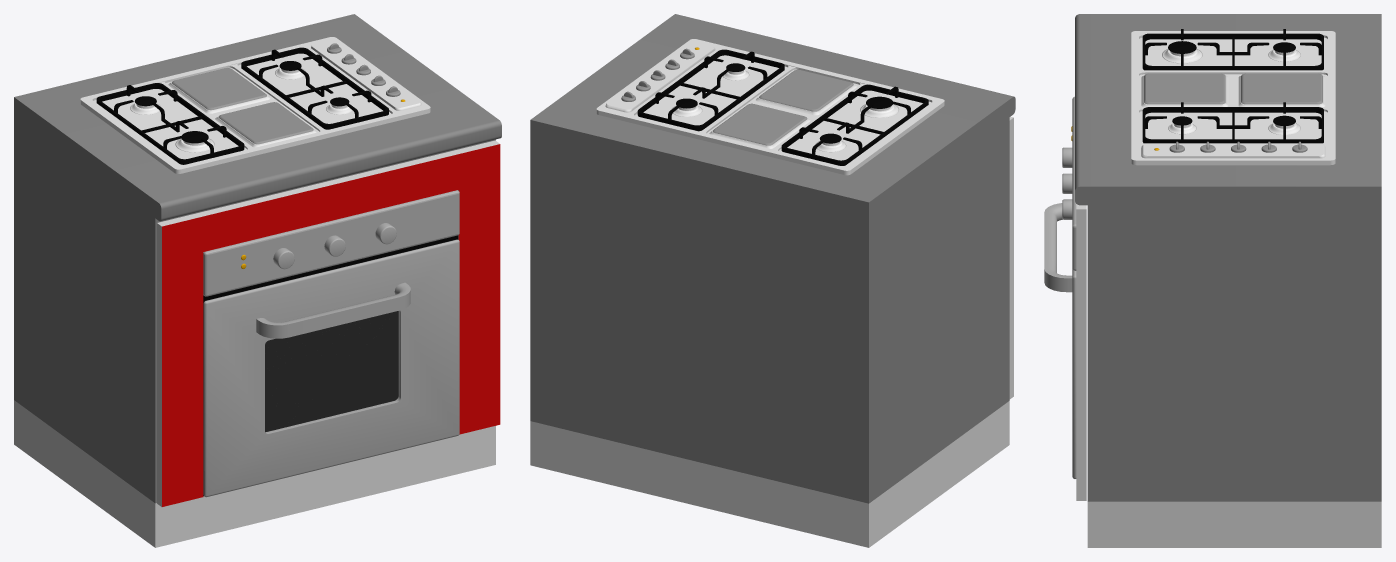
File: sweethome3d-lucapresidente-cooker-37.glb
The picture shows the model from 3 angles, left to right: view 1: azimuth 30°, elevation 25°; view 2: azimuth 150°, elevation 25°; view 3: azimuth 270°, elevation 25°; orthographic projection. The views are drawn at different scales.
Parts seen in each view (by area): view 1: Box10_2, ChamferBox02_7, Line0911_5, Line15_1, Box11_3, Box13_8, Rectangle02_16, Box12_10, ChamferBox01_6, Line09_4, Loft05_9, Rectangle08_56 (+5 smaller); view 2: Box10_2, Line15_1, Box11_3, Rectangle02_16, Rectangle08_56, Rectangle07_55, Rectangle01_17, Rectangle06_35, Rectangle04_18, Line09_4, Line49_53; view 3: Box10_2, Line15_1, Box11_3, Rectangle02_16, Line09_4, Rectangle07_55, Rectangle08_56, Rectangle01_17, Rectangle04_18, Rectangle06_35, Loft05_9, ChamferBox02_7 (+4 smaller).
Boxes of the visible parts, left/top/right/bottom form: Box10_2: left=14, top=115, right=495, bottom=503; ChamferBox02_7: left=203, top=239, right=459, bottom=497; Line0911_5: left=162, top=144, right=500, bottom=506; Line15_1: left=14, top=14, right=501, bottom=221; Box11_3: left=14, top=400, right=495, bottom=547; Box13_8: left=203, top=235, right=458, bottom=496; Rectangle02_16: left=80, top=37, right=430, bottom=173; Box12_10: left=265, top=311, right=399, bottom=432; ChamferBox01_6: left=203, top=190, right=459, bottom=296; Line09_4: left=157, top=140, right=499, bottom=506; Loft05_9: left=256, top=282, right=410, bottom=338; Rectangle08_56: left=218, top=102, right=313, bottom=144; Box10_2: left=530, top=117, right=1009, bottom=503; Line15_1: left=530, top=14, right=1015, bottom=219; Box11_3: left=530, top=401, right=1009, bottom=547; Rectangle02_16: left=596, top=39, right=944, bottom=175; Rectangle08_56: left=759, top=69, right=853, bottom=111; Rectangle07_55: left=712, top=103, right=807, bottom=145; Rectangle01_17: left=605, top=42, right=715, bottom=112; Rectangle06_35: left=637, top=49, right=784, bottom=131; Rectangle04_18: left=781, top=84, right=928, bottom=165; Line09_4: left=1009, top=116, right=1013, bottom=399; Line49_53: left=699, top=65, right=798, bottom=133; Box10_2: left=1087, top=205, right=1381, bottom=501; Line15_1: left=1075, top=14, right=1381, bottom=205; Box11_3: left=1087, top=501, right=1381, bottom=547; Rectangle02_16: left=1131, top=31, right=1335, bottom=165; Line09_4: left=1076, top=204, right=1086, bottom=500; Rectangle07_55: left=1241, top=73, right=1322, bottom=104; Rectangle08_56: left=1144, top=73, right=1225, bottom=104; Rectangle01_17: left=1141, top=143, right=1325, bottom=158; Rectangle04_18: left=1142, top=33, right=1323, bottom=70; Rectangle06_35: left=1142, top=107, right=1323, bottom=143; Loft05_9: left=1044, top=203, right=1072, bottom=292; ChamferBox02_7: left=1072, top=268, right=1076, bottom=478.
Size of the model in its own units: 80 by 81.1 by 66.01.
